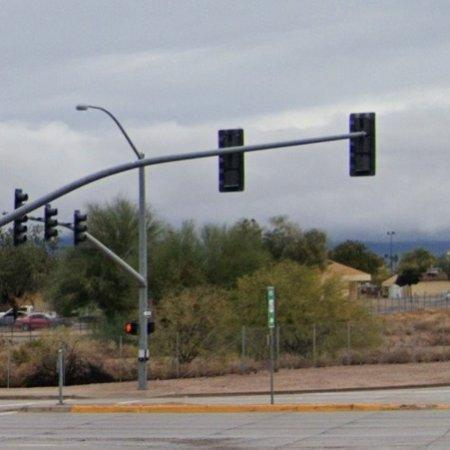traffic lights: (349, 112, 377, 177), (217, 128, 245, 193)
